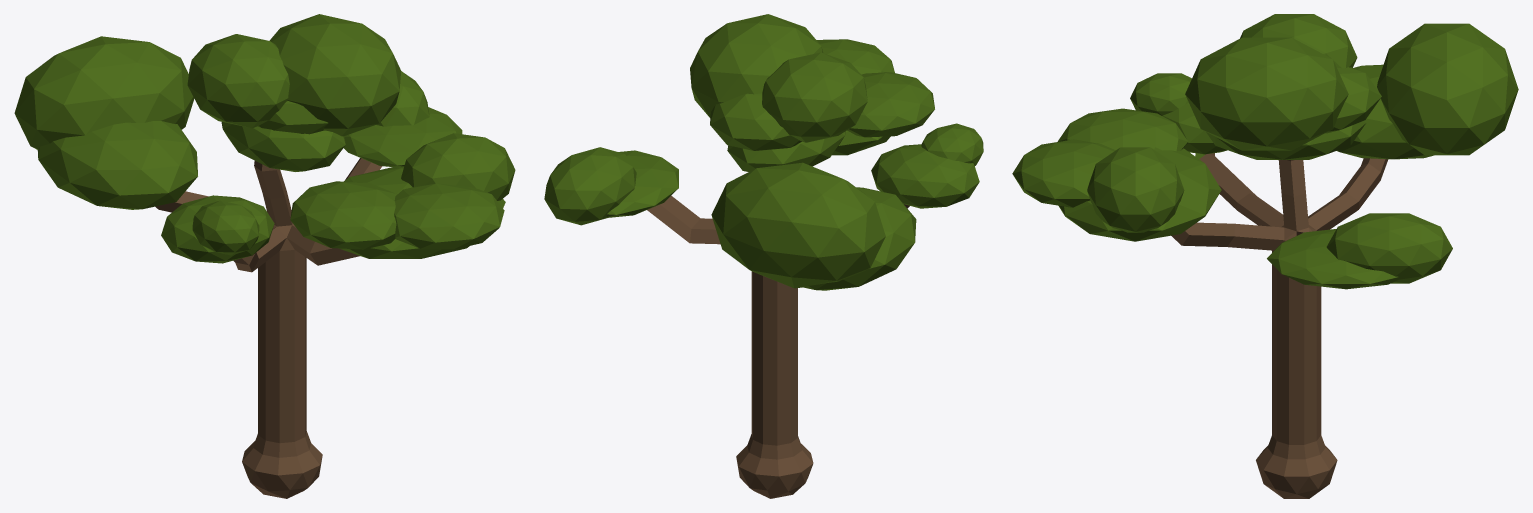
Rendered from Tree_One.fbx.
3 views of the same model, side by side, from view 1: azimuth 30°, elevation 25°; view 2: azimuth 150°, elevation 25°; view 3: azimuth 270°, elevation 25° (orthographic). The views are drawn at different scales.
Visible parts, largest first — view 1: Icosphere; view 2: Icosphere; view 3: Icosphere.
Boxes of the visible parts, x1=… form: Icosphere: x1=14, y1=14, x2=515, y2=498; Icosphere: x1=544, y1=14, x2=983, y2=498; Icosphere: x1=1012, y1=14, x2=1518, y2=498.
Bounding box in the file's own units: 1735 × 2109 × 2059.
